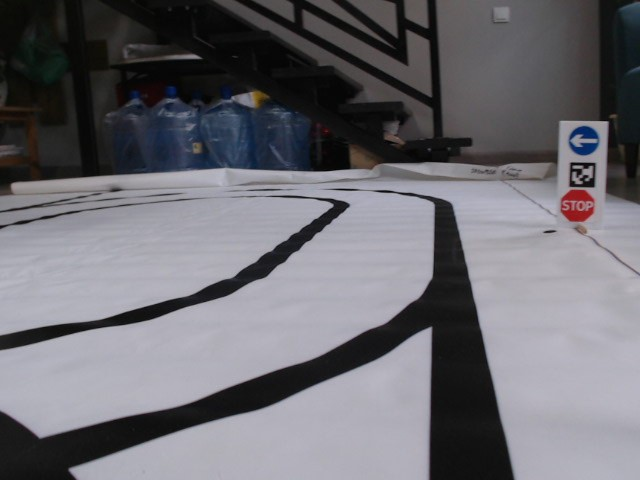Stop: (559, 189, 597, 223)
